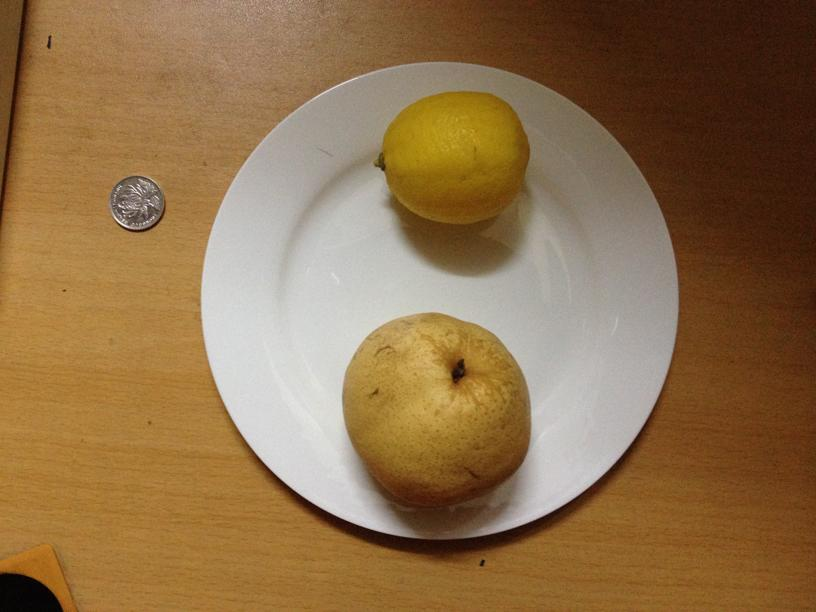coin: (110, 175, 167, 231)
lemon: (376, 90, 531, 227)
pear: (345, 312, 530, 502)
